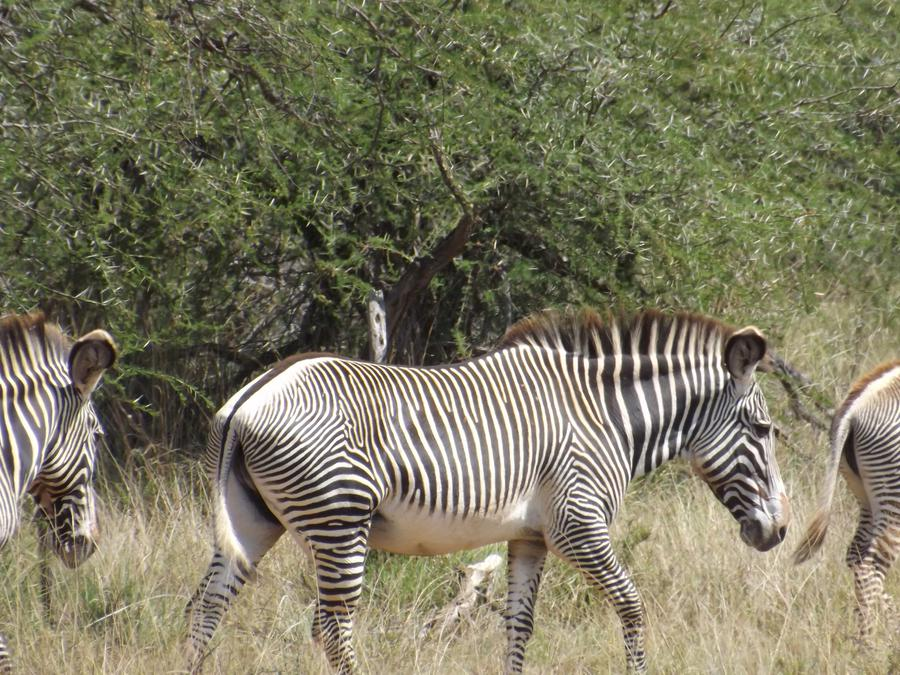zebra_grevys: (199, 338, 620, 526)
